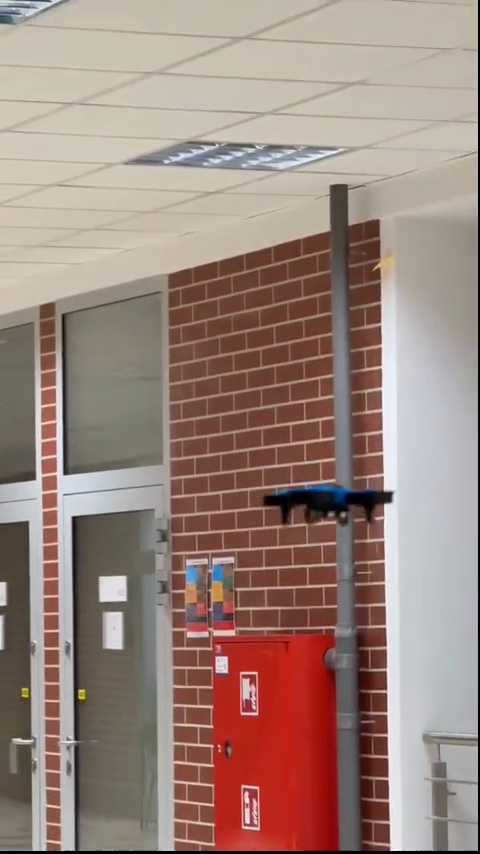drone: (261, 480, 392, 534)
